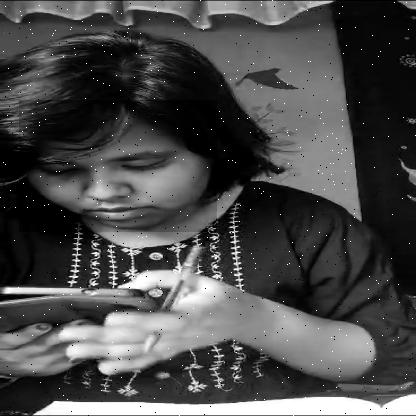Distracted: (20, 100, 218, 232)
